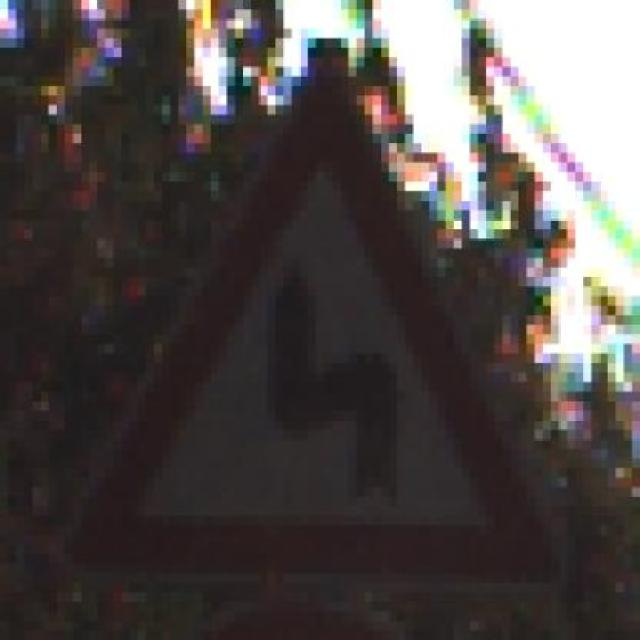Left Zig Zag Traffic: (73, 29, 567, 602)
